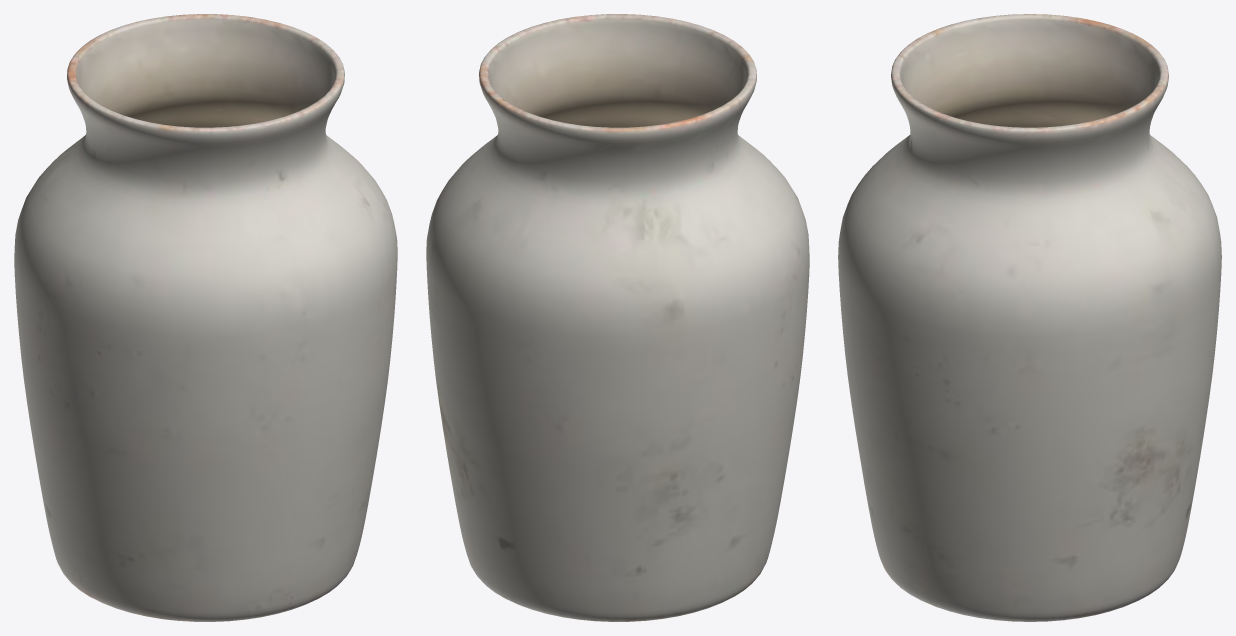
Rendered from ceramic_vase_02.glb.
3 renders of one model, left to right at view 1: azimuth 30°, elevation 25°; view 2: azimuth 150°, elevation 25°; view 3: azimuth 270°, elevation 25°, orthographic.
Visible parts, largest first — view 1: ceramic_vase_02; view 2: ceramic_vase_02; view 3: ceramic_vase_02.
Part boxes in pixels (x1,y1,x2,y2): ceramic_vase_02: [14, 14, 397, 621]; ceramic_vase_02: [426, 14, 809, 621]; ceramic_vase_02: [838, 14, 1221, 621].
Size of the model in its own units: 0.2184 by 0.3092 by 0.2184.
Materials: 1 (1 with a texture image).
